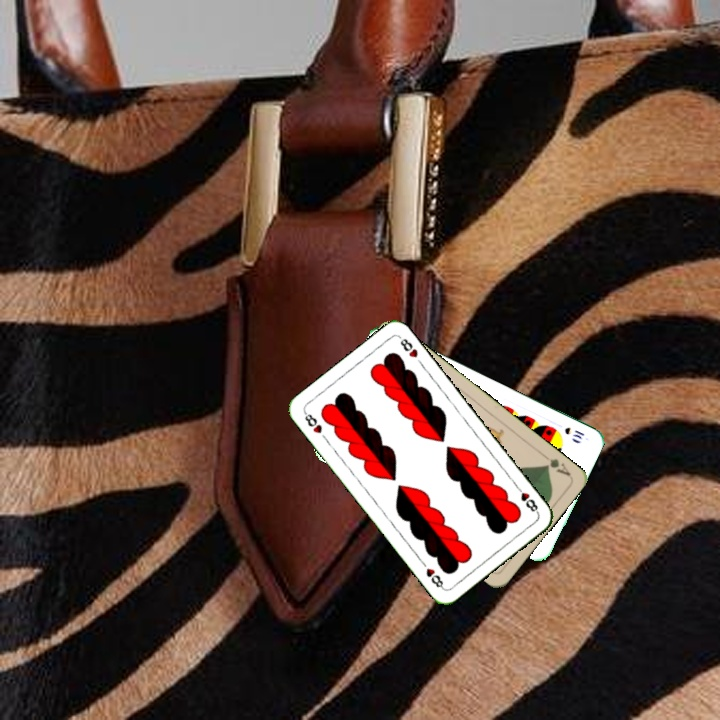GA: (538, 449, 573, 479)
H8: (512, 481, 541, 516), (300, 408, 325, 436)
S10: (560, 423, 587, 442)
